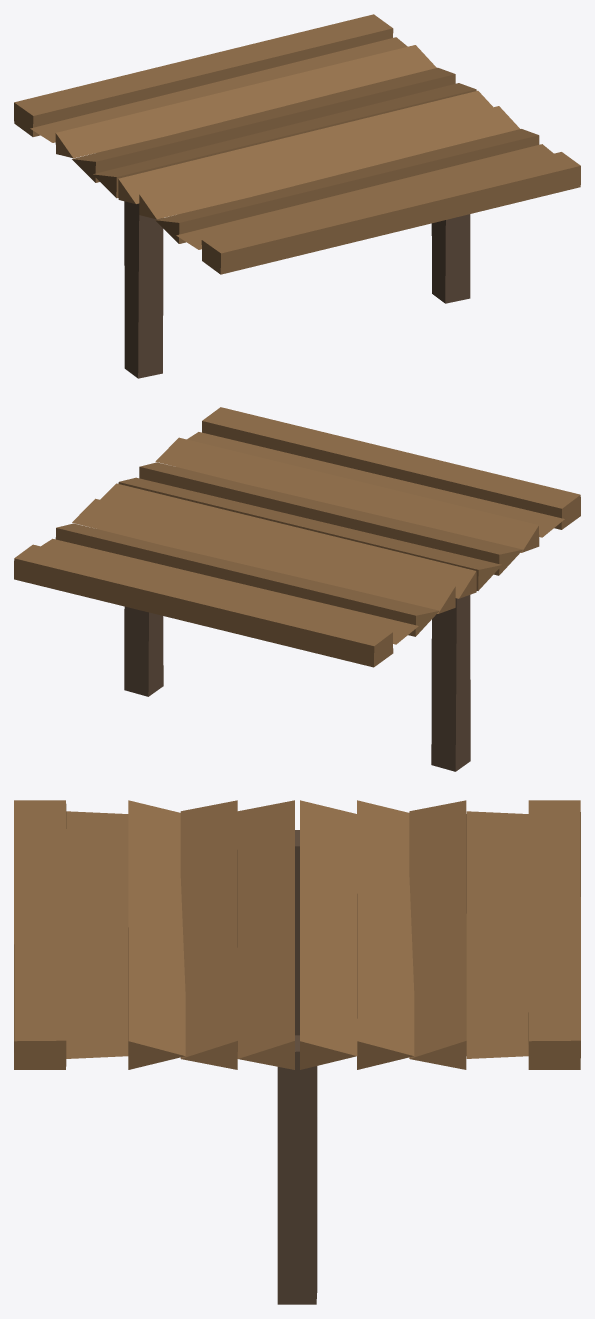
The model's file is harbor-pier.lod2.glb.
3 renders of one model, top to bottom at view 1: azimuth 30°, elevation 25°; view 2: azimuth 150°, elevation 25°; view 3: azimuth 270°, elevation 25°, orthographic. The views are drawn at different scales.
Parts seen in each view (by area): view 1: harbor-pier__body; view 2: harbor-pier__body; view 3: harbor-pier__body.
Part boxes in pixels (x1,y1,x2,y2): harbor-pier__body: (14,14,580,378); harbor-pier__body: (14,407,580,771); harbor-pier__body: (14,800,580,1304).
Bounding box in the file's own units: 2.03 × 1.06 × 1.98.
